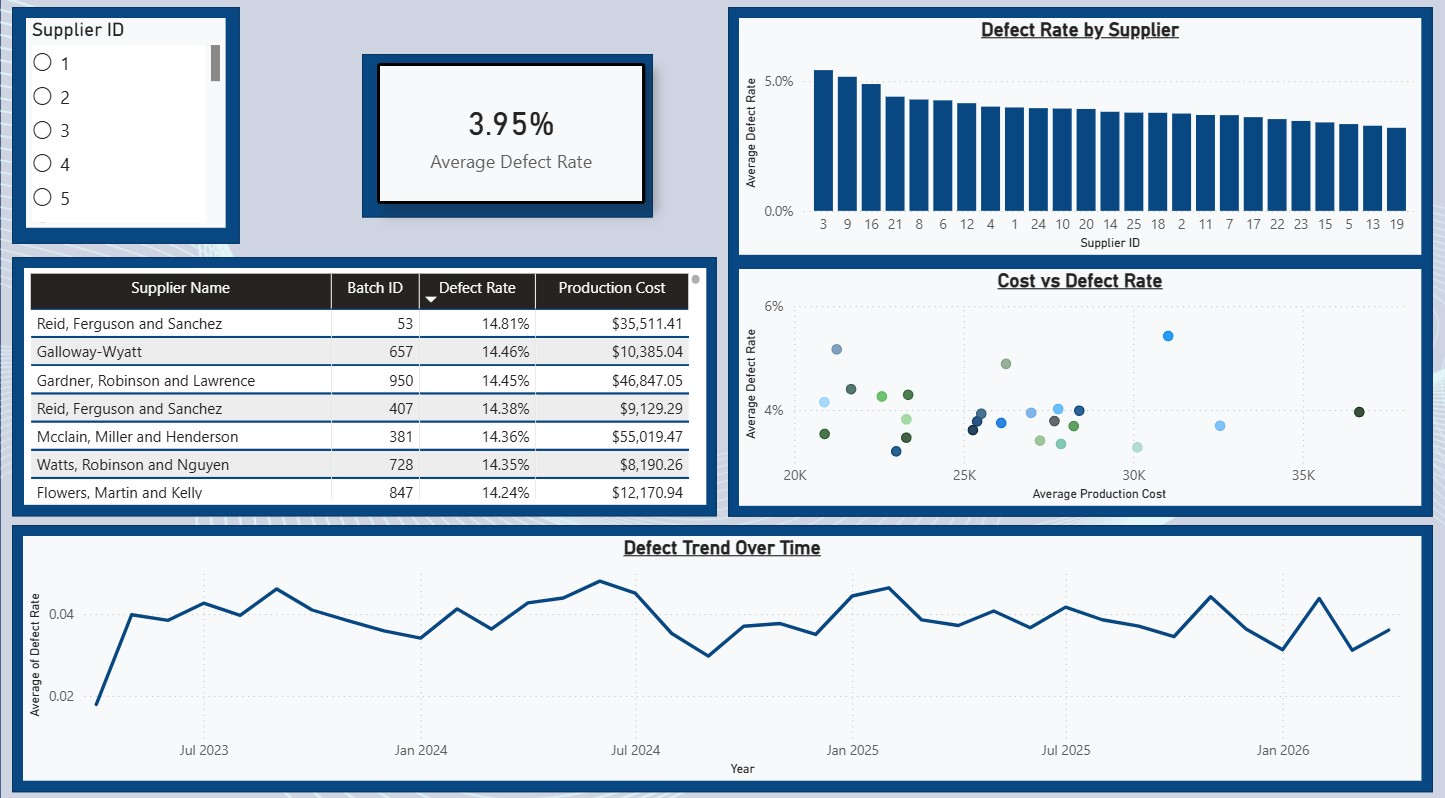

Layout of this report page (visuals, bound fields, positions):
{"tool":"powerbi","page":{"name":"Quality","canvas":[1280,720],"ordinal":2},"visuals":[{"type":"shape","box":[645,12,625,452],"z":0,"group":"g1"},{"type":"shape","box":[10,234,625,230],"z":0},{"type":"shape","box":[10,472,1260,237],"z":0,"group":"g2"},{"type":"shape","box":[10,12,202,210],"z":1000,"group":"g4"},{"type":"shape","box":[320,54,258,145],"z":1000,"group":"g3"},{"type":"columnChart","title":"Defect Rate by Supplier","fields":{"Category":["supply_chain_db vw_supplier_quality.Supplier ID"],"Y":["Sum(supply_chain_db vw_supplier_quality.Avg Defect Rate)"]},"box":[655.2,22,605,210],"z":2000,"group":"g1"},{"type":"card","fields":{"Values":["Avg(supply_chain_db vw_supplier_quality.Avg Defect Rate)"]},"box":[333,62,238,125],"z":2000,"group":"g3"},{"type":"tableEx","fields":{"Values":["supply_chain_db vw_quality_batches.supplier_name","supply_chain_db vw_quality_batches.Batch ID","supply_chain_db vw_quality_batches.Defect Rate","Sum(supply_chain_db vw_quality_batches.production_cost)"]},"box":[20,244,605,210],"z":3000},{"type":"group","id":"g1","title":"Group 1","box":[645,12,625,452],"z":4000},{"type":"lineChart","title":"Defect Trend Over Time","fields":{"Y":["Avg(supply_chain_db vw_quality_batches.Defect Rate)"],"Category":["supply_chain_db vw_quality_batches.Inspection Date.Variation.Date Hierarchy.Year","supply_chain_db vw_quality_batches.Inspection Date.Variation.Date Hierarchy.Month","supply_chain_db vw_quality_batches.Inspection Date.Variation.Date Hierarchy.Day"]},"box":[20,482,1240,217],"z":4000,"group":"g2"},{"type":"scatterChart","title":"Cost vs Defect Rate","fields":{"X":["Avg(supply_chain_db vw_quality_batches.production_cost)"],"Y":["Avg(supply_chain_db vw_quality_batches.Defect Rate)"],"Series":["supply_chain_db vw_quality_batches.Supplier ID"]},"box":[655,244,605,210],"z":5000,"group":"g1"},{"type":"group","id":"g2","title":"Group 2","box":[10,472,1260,237],"z":5000},{"type":"group","id":"g3","title":"Group 3","box":[320,54,258,145],"z":5001},{"type":"listSlicer","fields":{"Values":["supply_chain_db vw_supplier_quality.Supplier ID"]},"box":[22,22,177,186],"z":5002,"group":"g4"},{"type":"group","id":"g4","title":"Group 4","box":[10,12,202,210],"z":5003}]}

Visuals, with their boxes in screenshot pixels (x1, y1, x2, y2), scaled from the page's 1280x720 canvas onto the 1445x798 screenshot:
shape: region(728, 13, 1434, 514)
shape: region(11, 259, 717, 514)
shape: region(11, 523, 1434, 786)
shape: region(11, 13, 239, 246)
shape: region(361, 60, 653, 221)
"Defect Rate by Supplier" columnChart: region(740, 24, 1423, 257)
card - Avg(supply_chain_db vw_supplier_quality.Avg Defect Rate): region(376, 69, 645, 207)
tableEx - supply_chain_db vw_quality_batches.supplier_name x supply_chain_db vw_quality_batches.Batch ID: region(23, 270, 706, 503)
"Group 1" group: region(728, 13, 1434, 514)
"Defect Trend Over Time" lineChart: region(23, 534, 1422, 775)
"Cost vs Defect Rate" scatterChart: region(739, 270, 1422, 503)
"Group 2" group: region(11, 523, 1434, 786)
"Group 3" group: region(361, 60, 653, 221)
listSlicer - supply_chain_db vw_supplier_quality.Supplier ID: region(25, 24, 225, 231)
"Group 4" group: region(11, 13, 239, 246)
